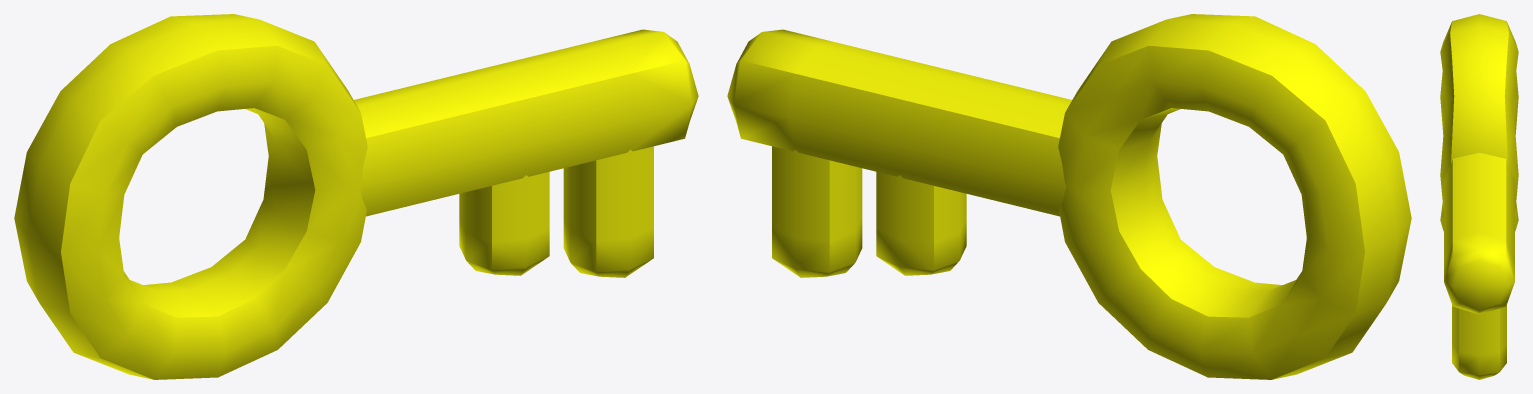
File: Key.glb
3 renders of one model, left to right at view 1: azimuth 30°, elevation 25°; view 2: azimuth 150°, elevation 25°; view 3: azimuth 270°, elevation 25°, orthographic. The views are drawn at different scales.
Parts seen in each view (by area): view 1: Key; view 2: Key; view 3: Key.
Part boxes in pixels (x1,y1,x2,y2): Key: (14, 14, 698, 379); Key: (727, 14, 1411, 379); Key: (1440, 14, 1518, 379).
Bounding box in the file's own units: 1.93 × 0.9819 × 0.3177.
1 material, 1 textured.
